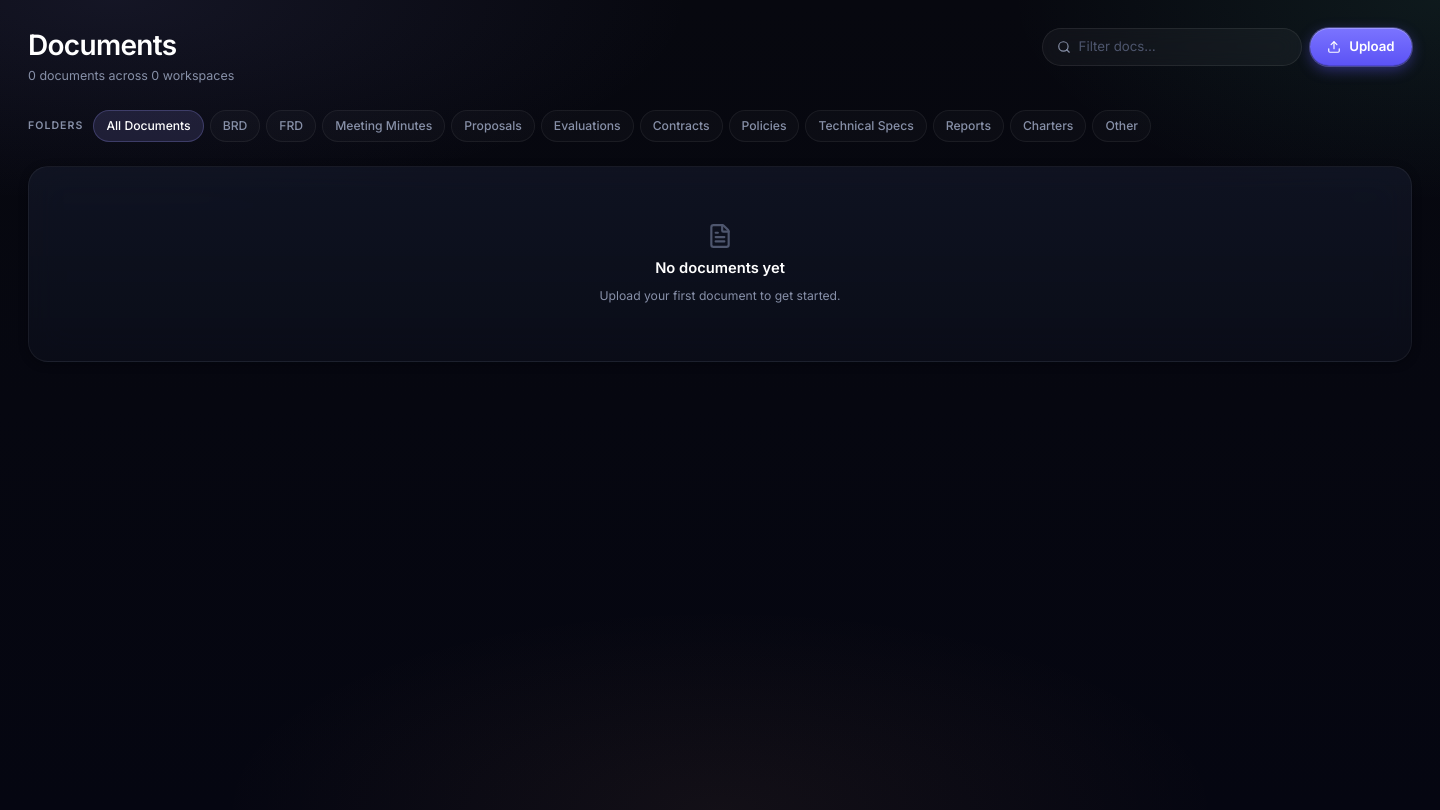
Scenario: Documents – Create › adds newly created document to list after reload
Expected: the text "No documents yet" is shown, [655,257,785,279]
Click the button "Upload" at coordinates (1361, 47), box [1310,28,1412,66]
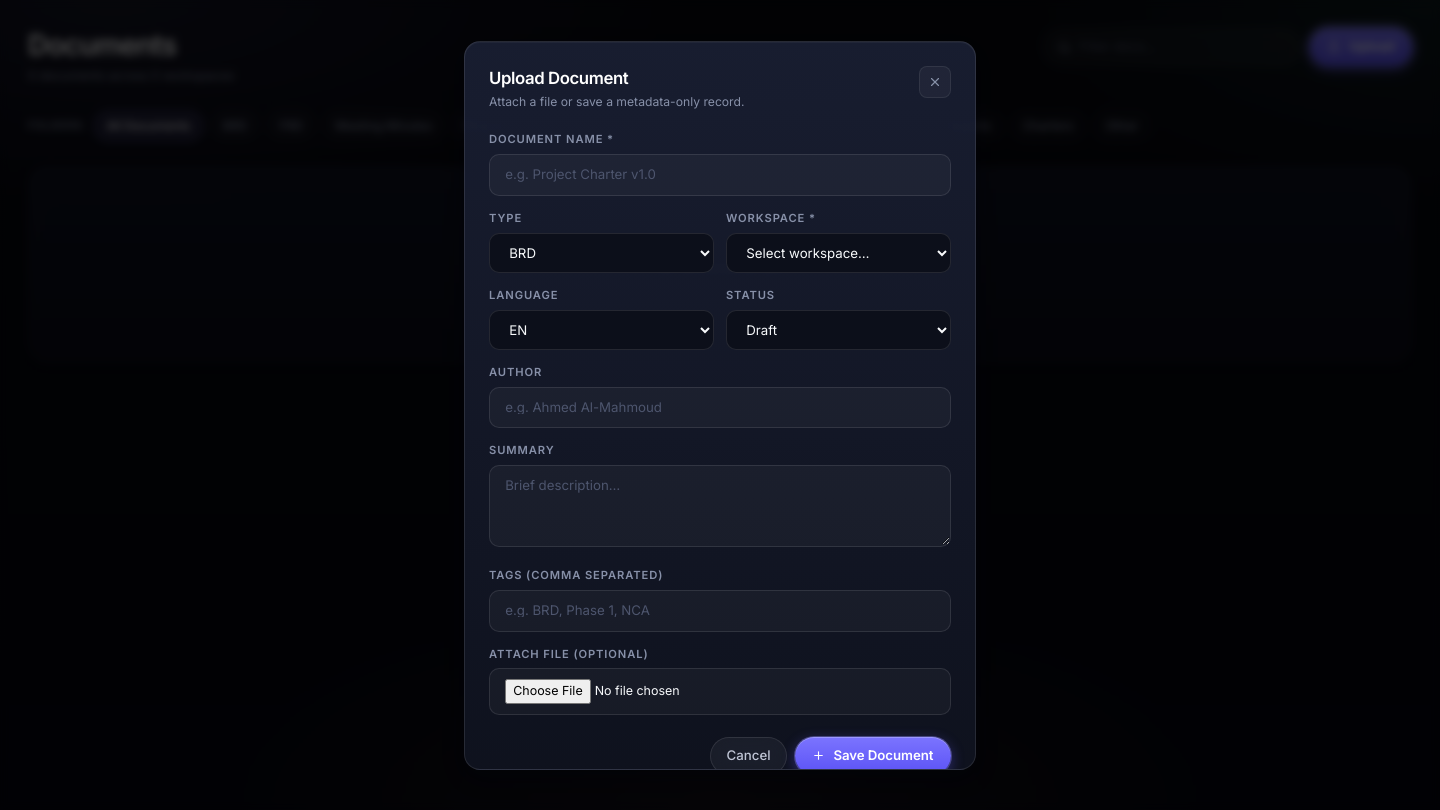
Type "Freshly Uploaded Doc" into the field with placeholder "e.g. Project Charter v1.0" at coordinates (720, 175), box [489,154,951,196]
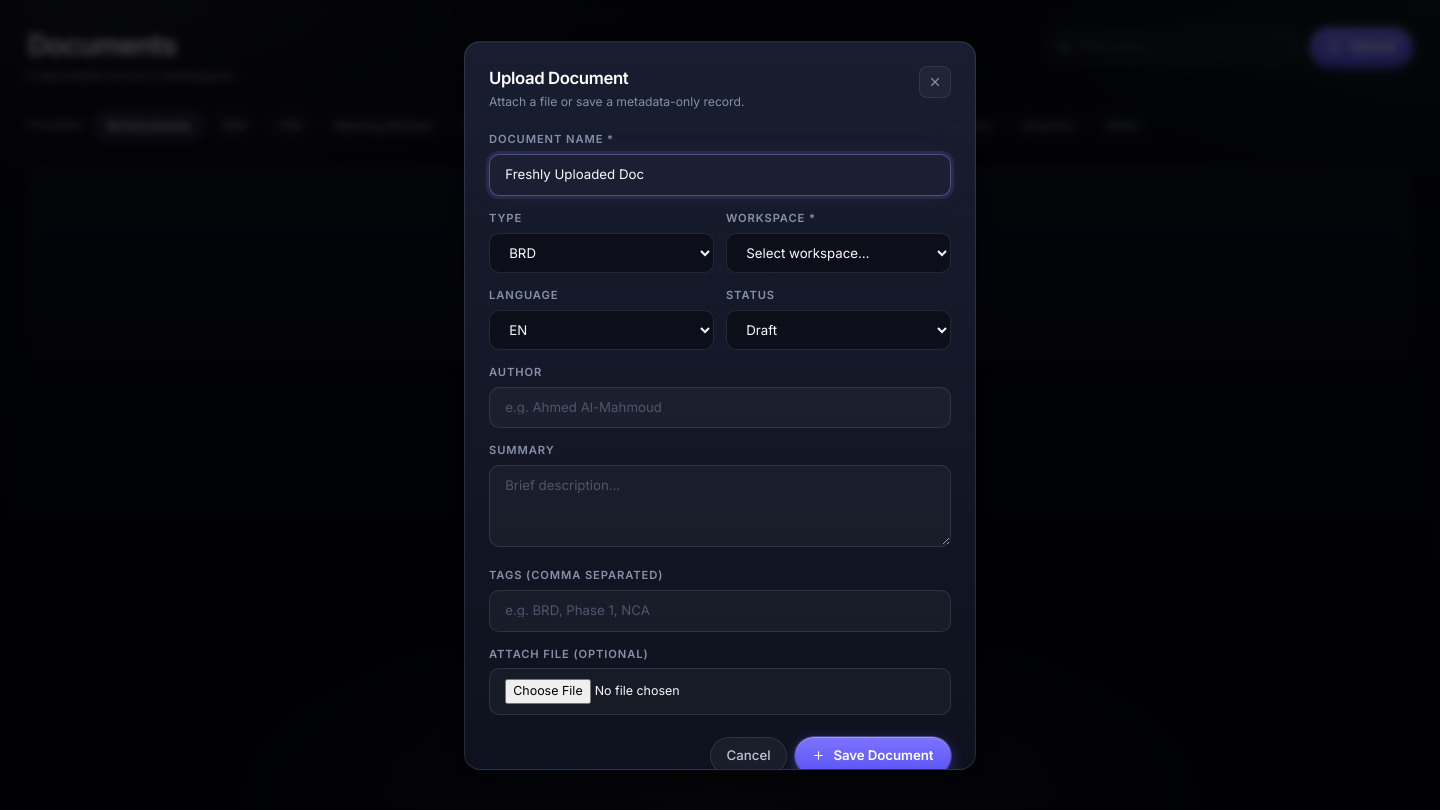
Select "NCA" in the dropdown below "Workspace *" at coordinates (838, 252), box [726,232,951,272]
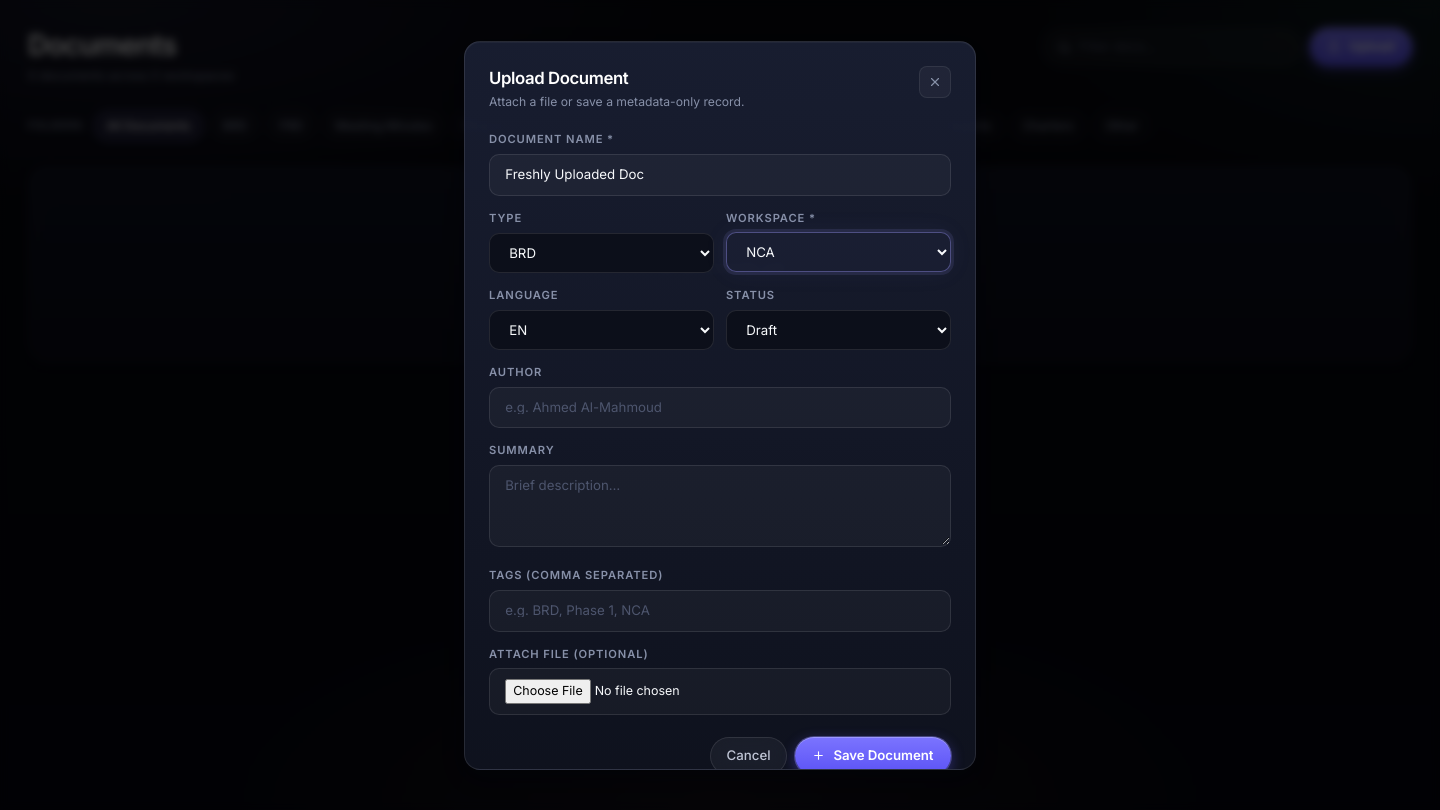
Click the button "Save Document" at coordinates (873, 756), box [795,737,951,775]
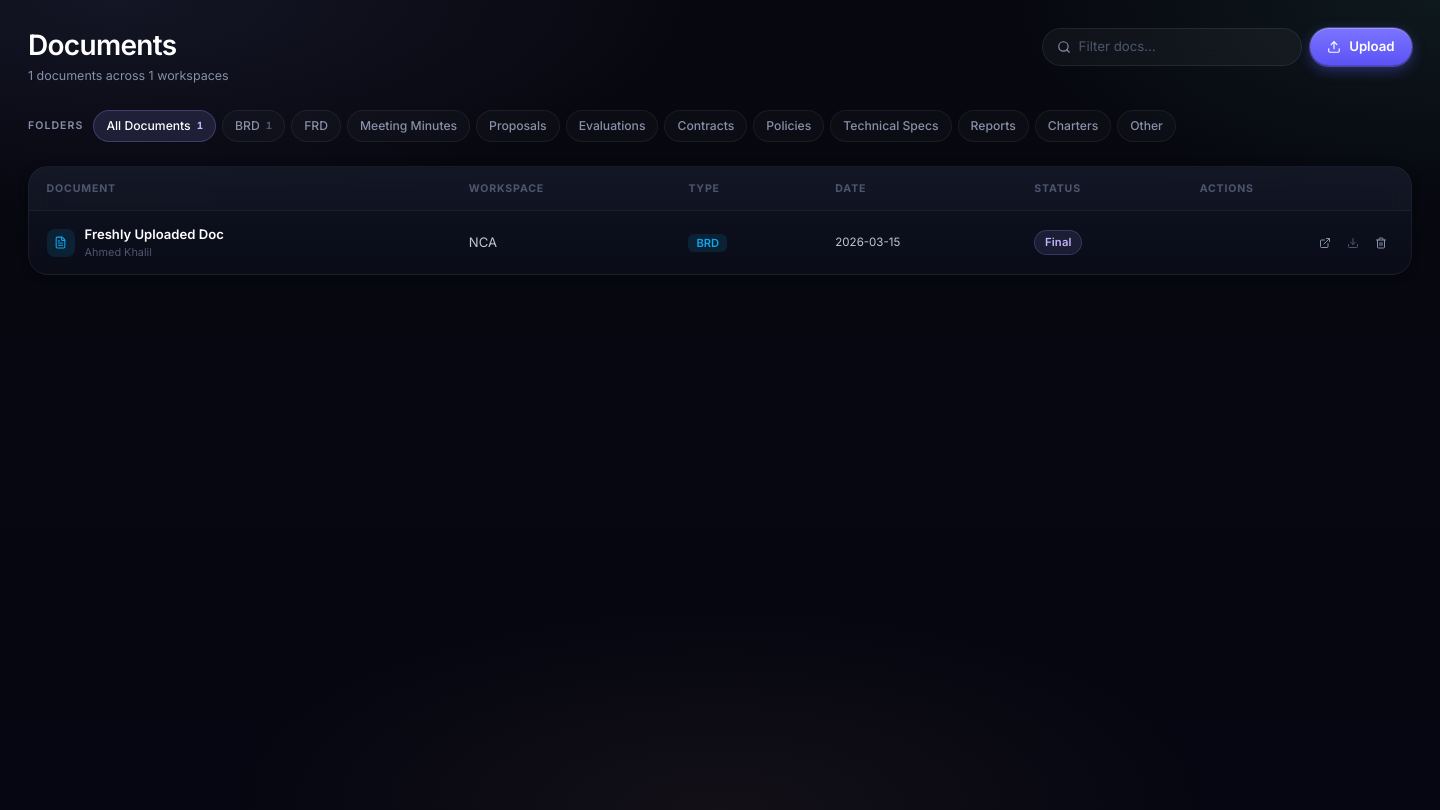
Now the text "Freshly Uploaded Doc" is shown, box [85,225,224,244]
